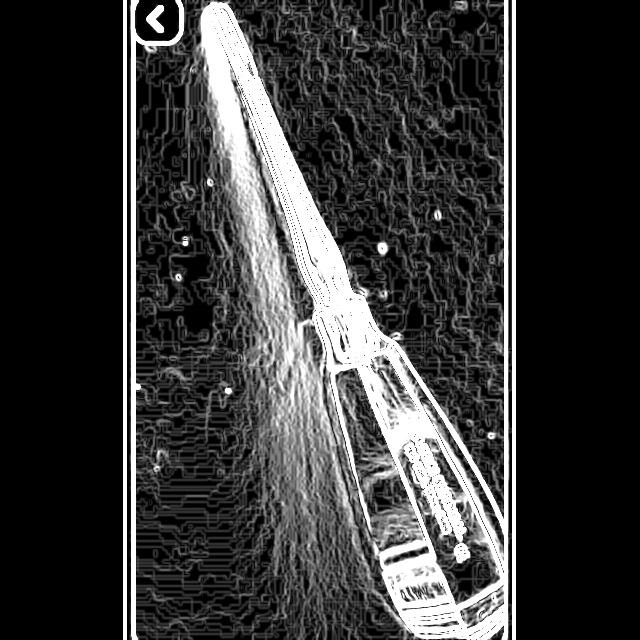botador: (220, 11, 506, 639)
